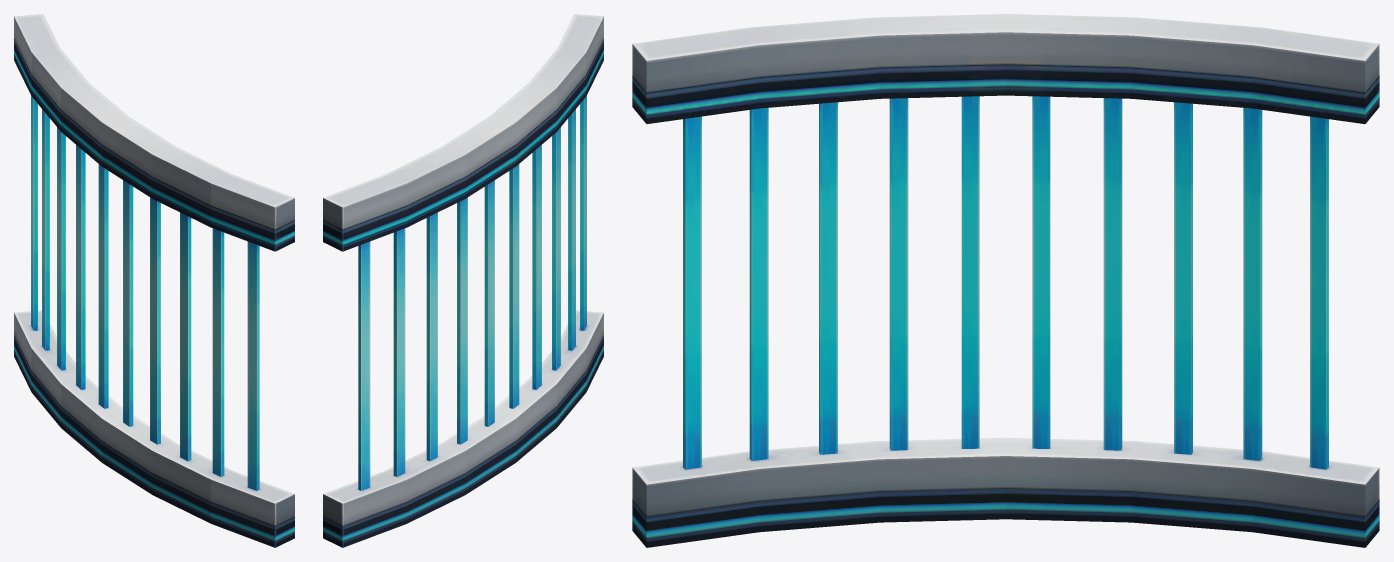
File: my_millenniumlounge_01_partition_03.glb
3 renders of one model, left to right at view 1: azimuth 30°, elevation 25°; view 2: azimuth 150°, elevation 25°; view 3: azimuth 270°, elevation 25°, orthographic. The views are drawn at different scales.
Visible parts, largest first — view 1: my_millenniumlounge_01_partition_03; view 2: my_millenniumlounge_01_partition_03; view 3: my_millenniumlounge_01_partition_03.
Part boxes in pixels (x1,y1,x2,y2): my_millenniumlounge_01_partition_03: (14,14,294,547); my_millenniumlounge_01_partition_03: (323,14,603,547); my_millenniumlounge_01_partition_03: (632,14,1379,547).
Size of the model in its own units: 0.00255 by 0.0123 by 0.0172.
Materials: 2 (2 with a texture image).
